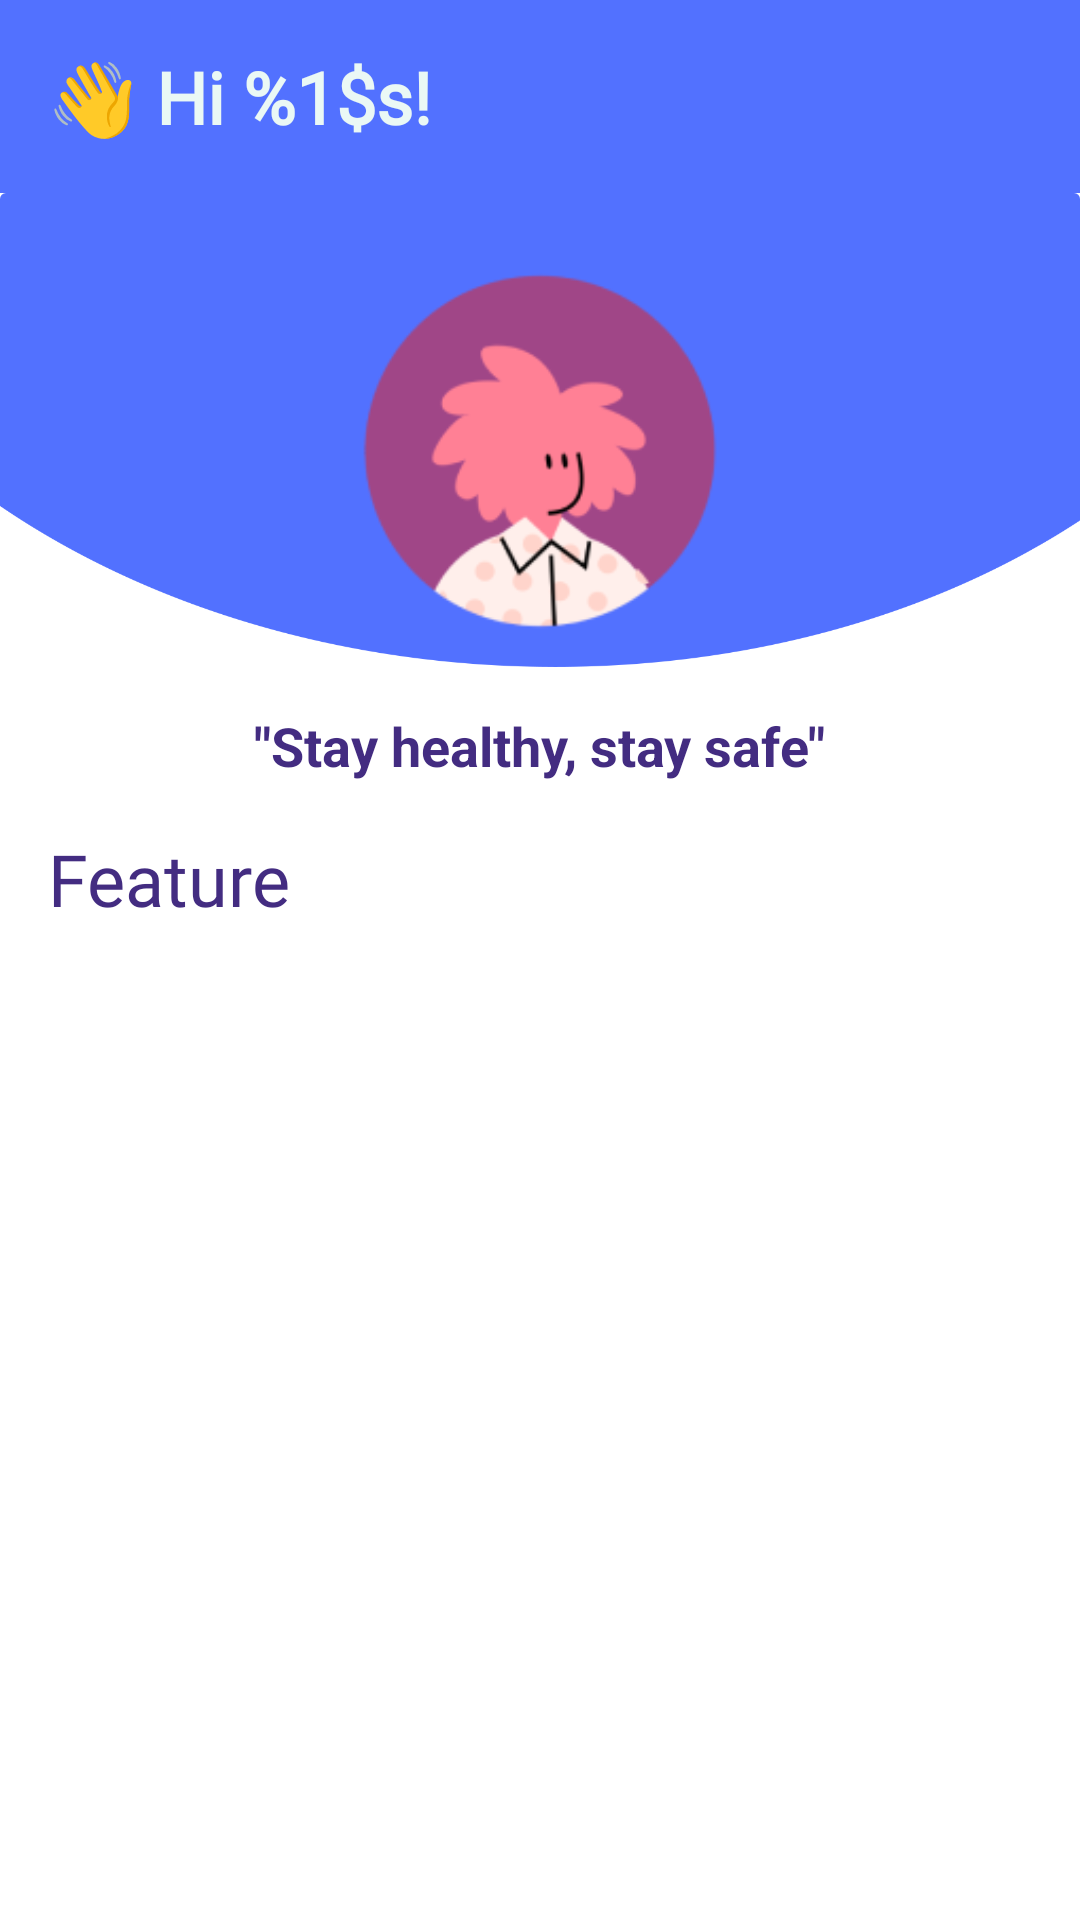

Icons on this 1080px x 1920px Android screen, each with the point to tap as [x,y]:
profile: [540,451]
